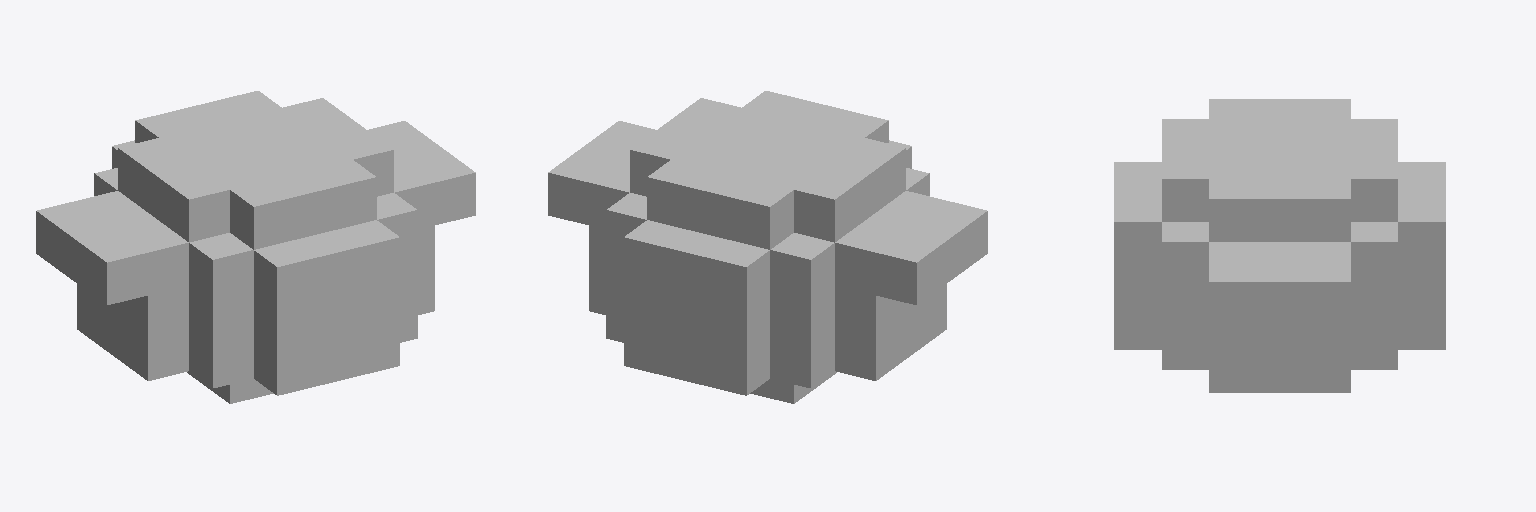
The model's file is Steamed Egg.obj.
The picture shows the model from 3 angles: view 1: azimuth 30°, elevation 25°; view 2: azimuth 150°, elevation 25°; view 3: azimuth 270°, elevation 25°; orthographic projection.
Size of the model in its own units: 9 by 5 by 7.